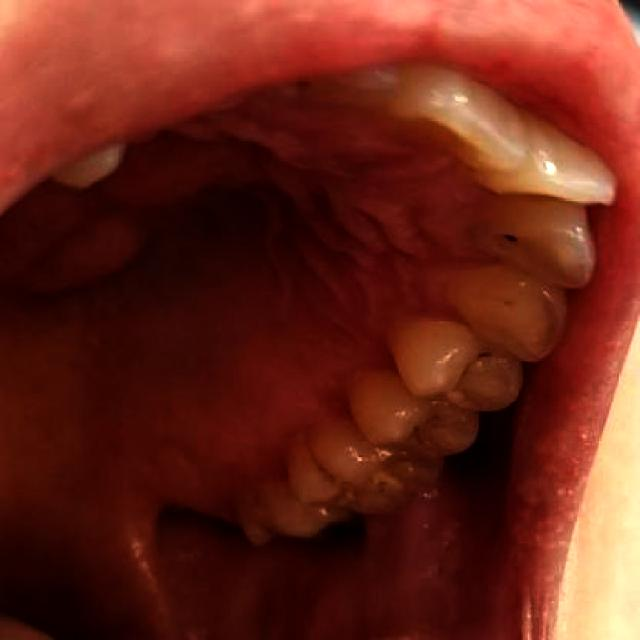Plaque: (304, 437, 352, 490), (450, 349, 495, 400), (408, 412, 443, 453), (491, 229, 524, 250)
